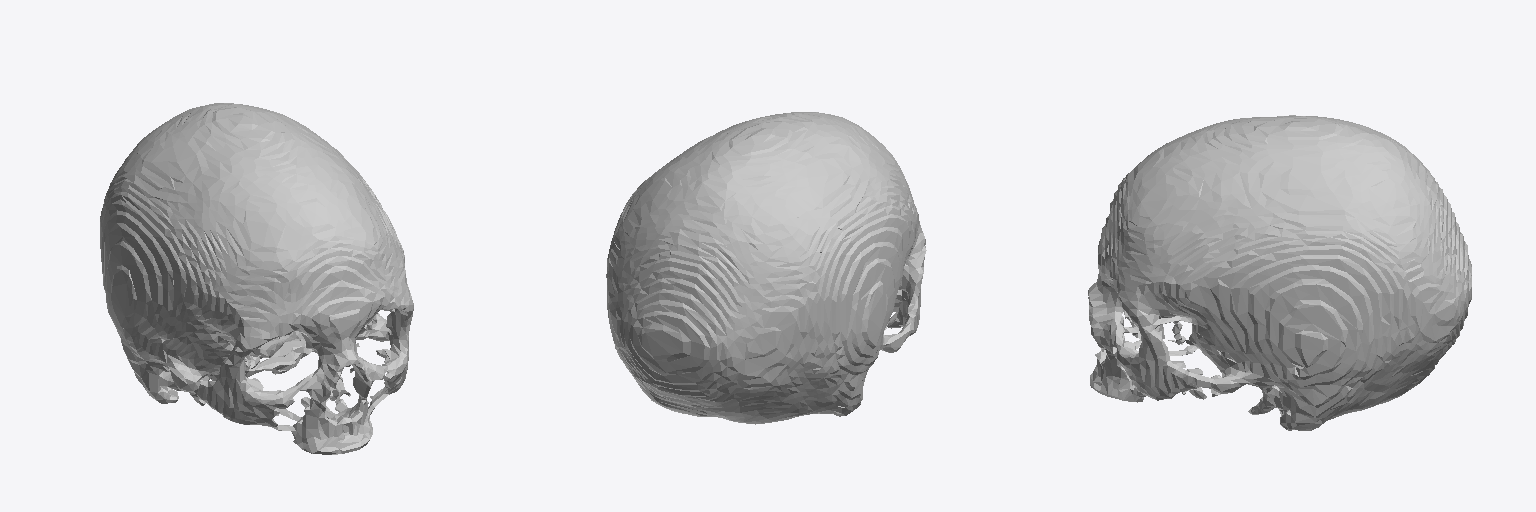
Rendered from DskullC012.obj.
3 views of the same model, side by side, from view 1: azimuth 30°, elevation 25°; view 2: azimuth 150°, elevation 25°; view 3: azimuth 270°, elevation 25° (orthographic).
Visible parts, largest first — view 1: Tetemeshcomplete_Tetemeshcomplete.001; view 2: Tetemeshcomplete_Tetemeshcomplete.001; view 3: Tetemeshcomplete_Tetemeshcomplete.001.
Part boxes in pixels (bbox=[...]): Tetemeshcomplete_Tetemeshcomplete.001: bbox=[100, 103, 413, 454]; Tetemeshcomplete_Tetemeshcomplete.001: bbox=[606, 112, 926, 424]; Tetemeshcomplete_Tetemeshcomplete.001: bbox=[1088, 115, 1471, 430].
Size of the model in its own units: 1.76 by 1.78 by 2.39.